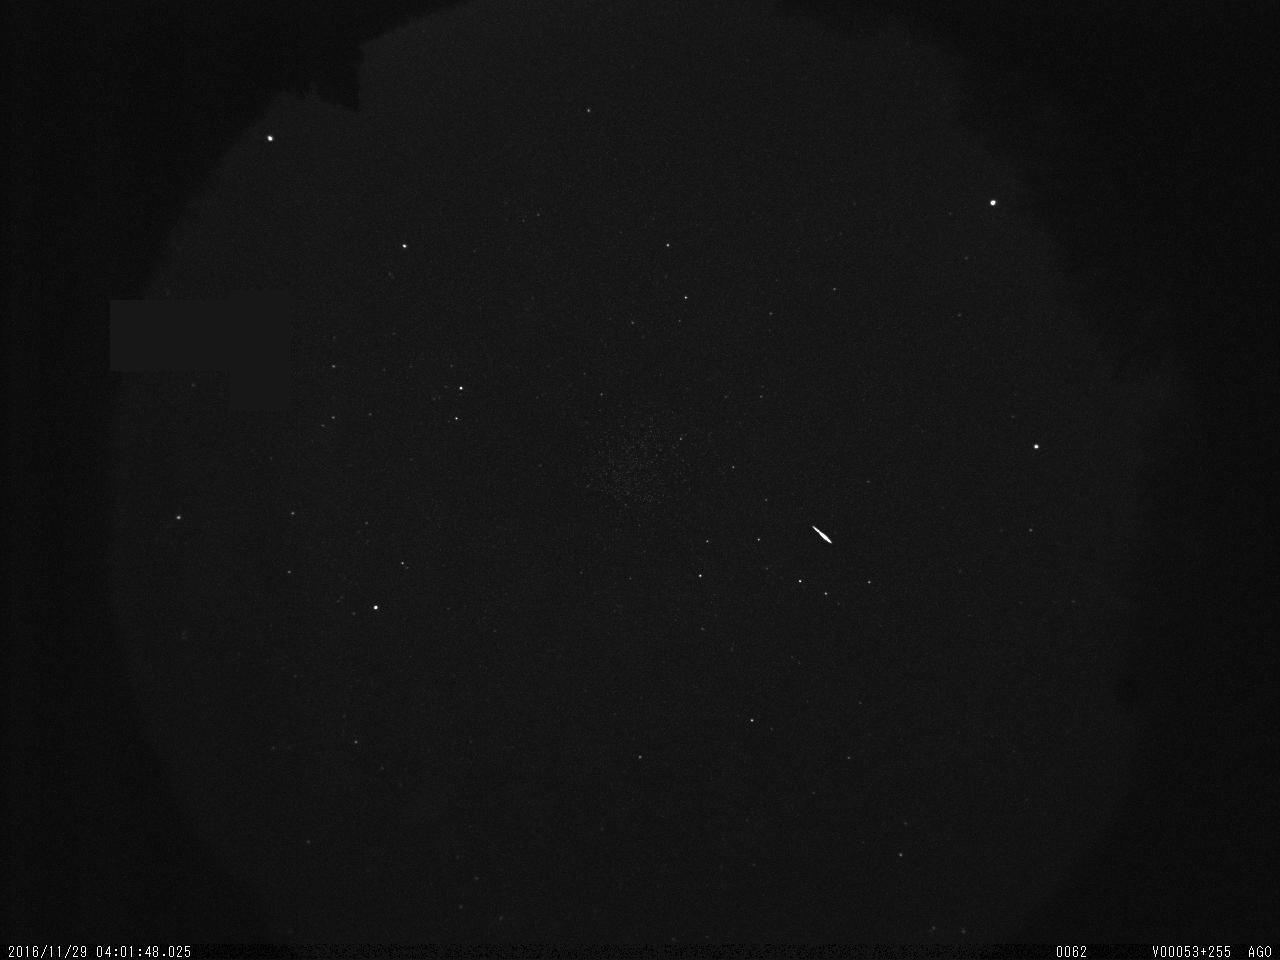meteor: (804, 520, 845, 547)
